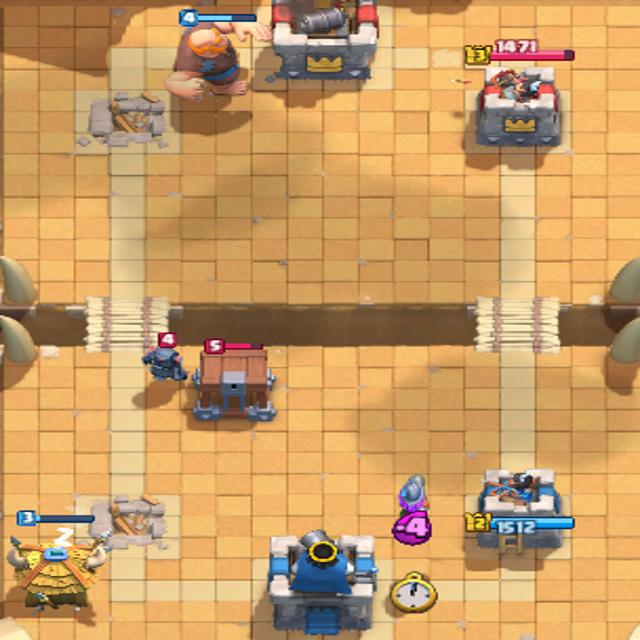EKingTower: (267, 0, 378, 80)
EMiniPeka: (141, 333, 187, 379)
EnemyPrincessTower: (478, 67, 559, 146)
OGiant: (166, 9, 270, 101)
OGoblinHut: (6, 527, 106, 610)
OMusk: (400, 475, 428, 517)
OwnKingTower: (268, 530, 378, 634)
OwnPrincessTower: (478, 469, 573, 549)
TowerDown: (76, 93, 178, 152), (79, 494, 180, 551)
